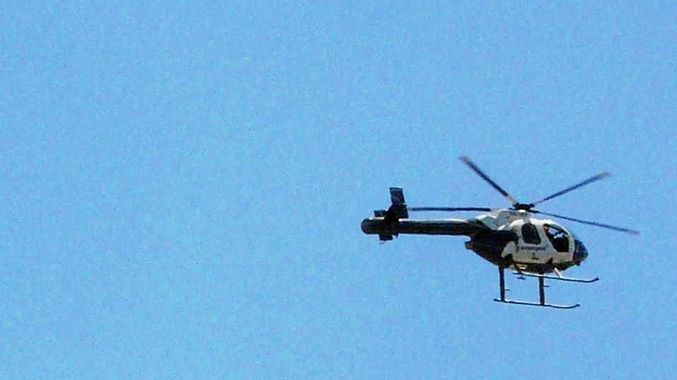Helicopter: (359, 164, 640, 315)
